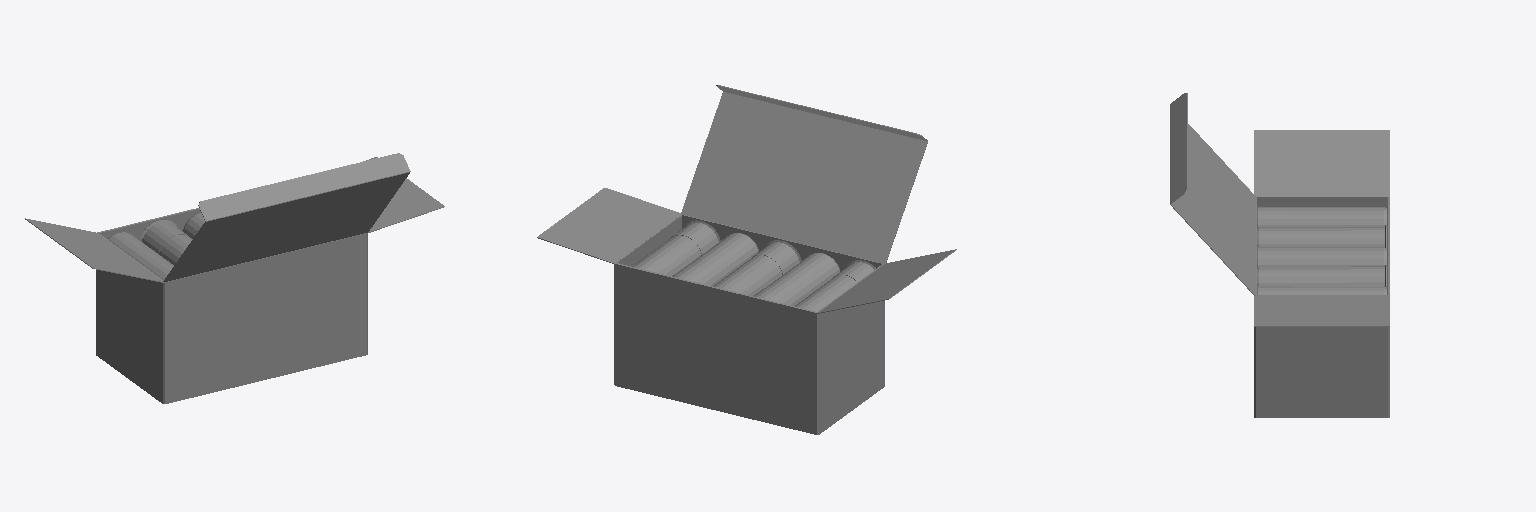
Rendered from ShotgunShell.obj.
3 renders of one model, left to right at view 1: azimuth 30°, elevation 25°; view 2: azimuth 150°, elevation 25°; view 3: azimuth 270°, elevation 25°, orthographic.
Visible parts, largest first — view 1: BCap; view 2: BCap; view 3: BCap.
Boxes of the visible parts, box(x1,y1,x2,y2) form: BCap: box(25, 153, 444, 403); BCap: box(537, 85, 956, 434); BCap: box(1170, 93, 1389, 417).
Bounding box in the file's own units: 7.29 × 4.49 × 3.94.